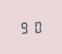nine: (19, 20, 30, 34)
zero: (31, 19, 42, 33)
